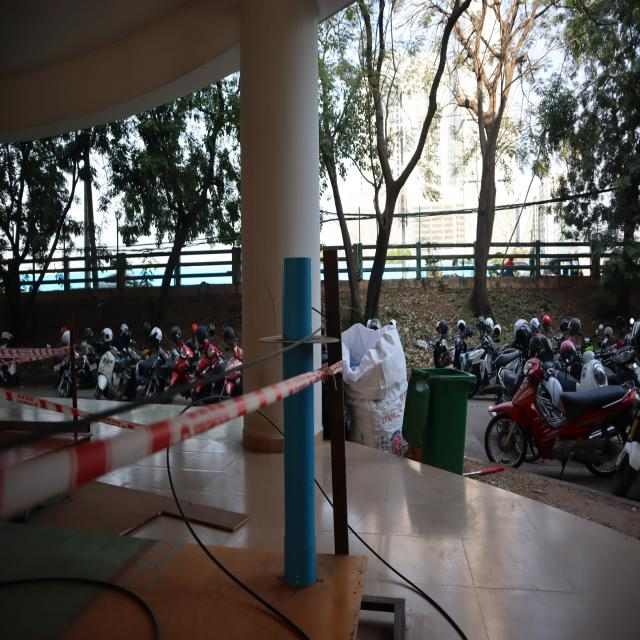pole: (256, 250, 350, 448)
